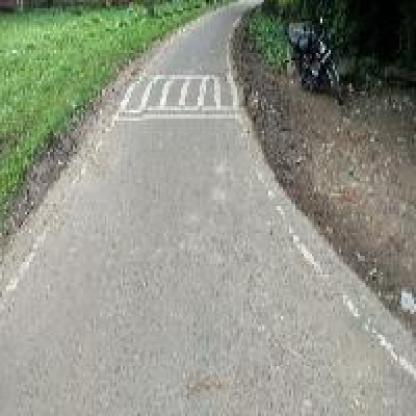Speed Bump: (112, 71, 244, 125)
